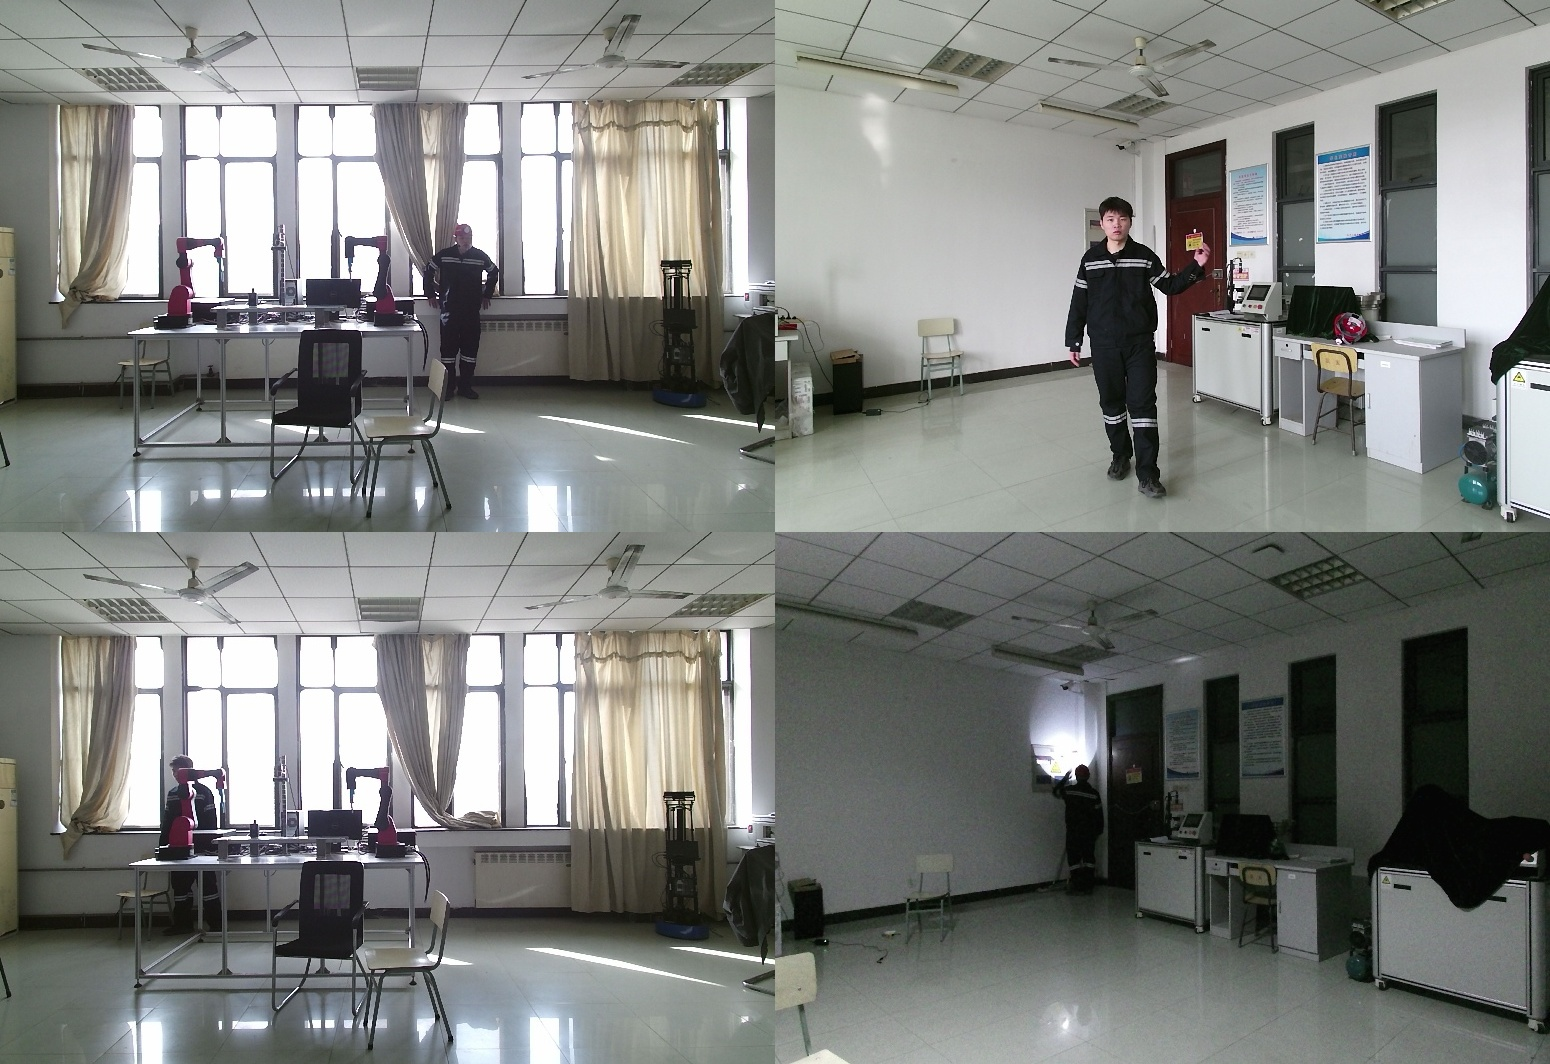person: (1047, 197, 1231, 492), (427, 224, 500, 405), (157, 755, 226, 943), (1049, 765, 1110, 898)
